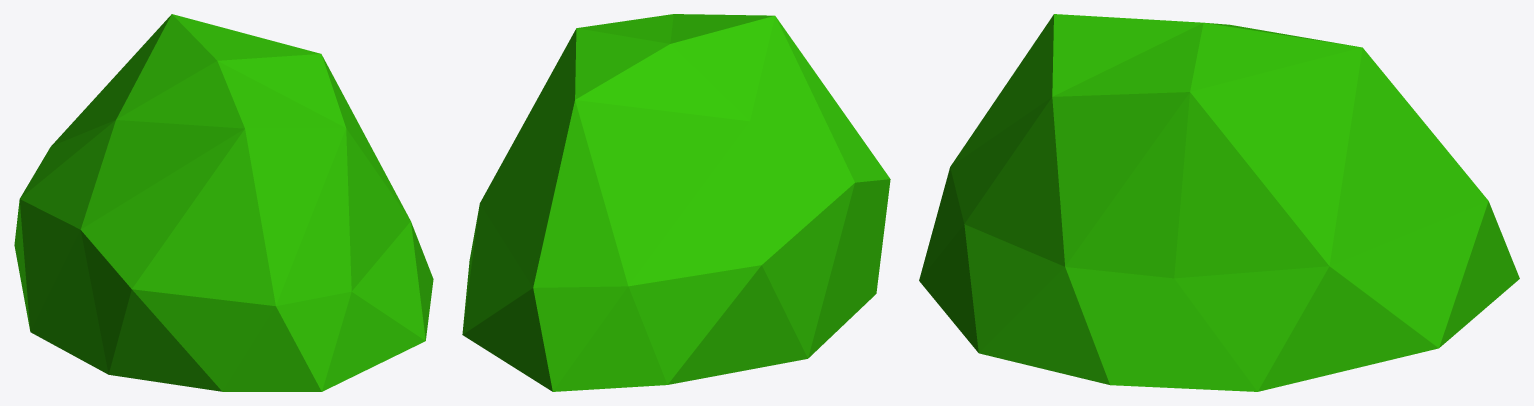
Rendered from Bush2.fbx.
The picture shows the model from 3 angles, left to right: view 1: azimuth 30°, elevation 25°; view 2: azimuth 150°, elevation 25°; view 3: azimuth 270°, elevation 25°; orthographic projection. The views are drawn at different scales.
Parts seen in each view (by area): view 1: Icosphere; view 2: Icosphere; view 3: Icosphere.
Part boxes in pixels (<box>): Icosphere: <box>14,14,433,391</box>; Icosphere: <box>462,14,890,391</box>; Icosphere: <box>919,14,1519,391</box>.
Bounding box in the file's own units: 213 × 152 × 288.
